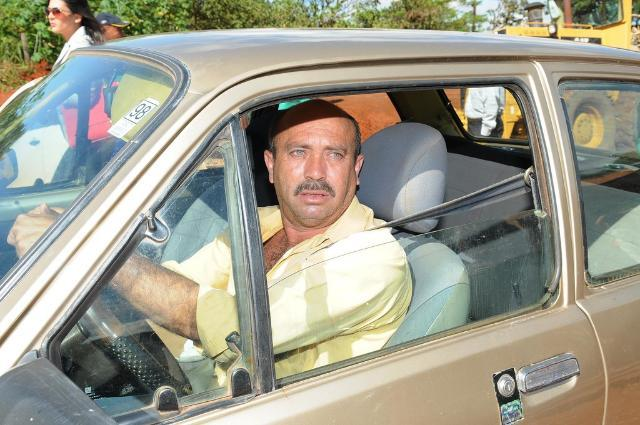SafeDriving: (284, 142, 312, 160), (322, 145, 348, 162)
Seatbelt: (306, 166, 544, 255)
